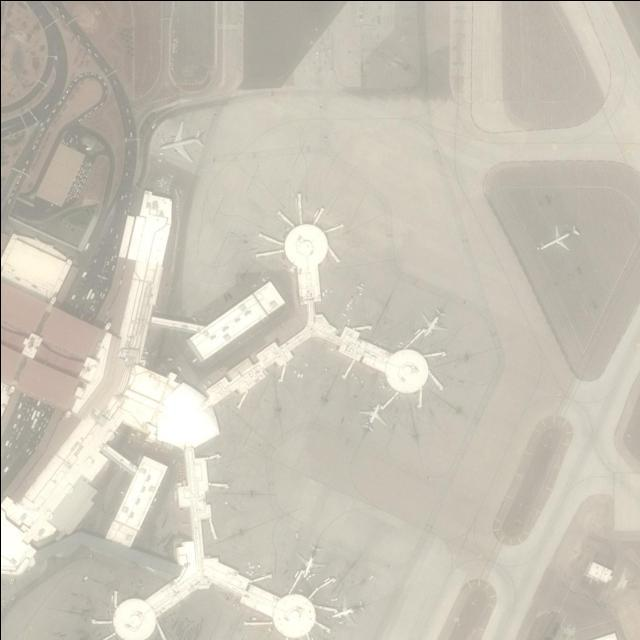Aircraft: (161, 122, 203, 164), (536, 223, 583, 257), (297, 541, 325, 579), (417, 310, 448, 341), (329, 597, 365, 622), (360, 400, 387, 432)
